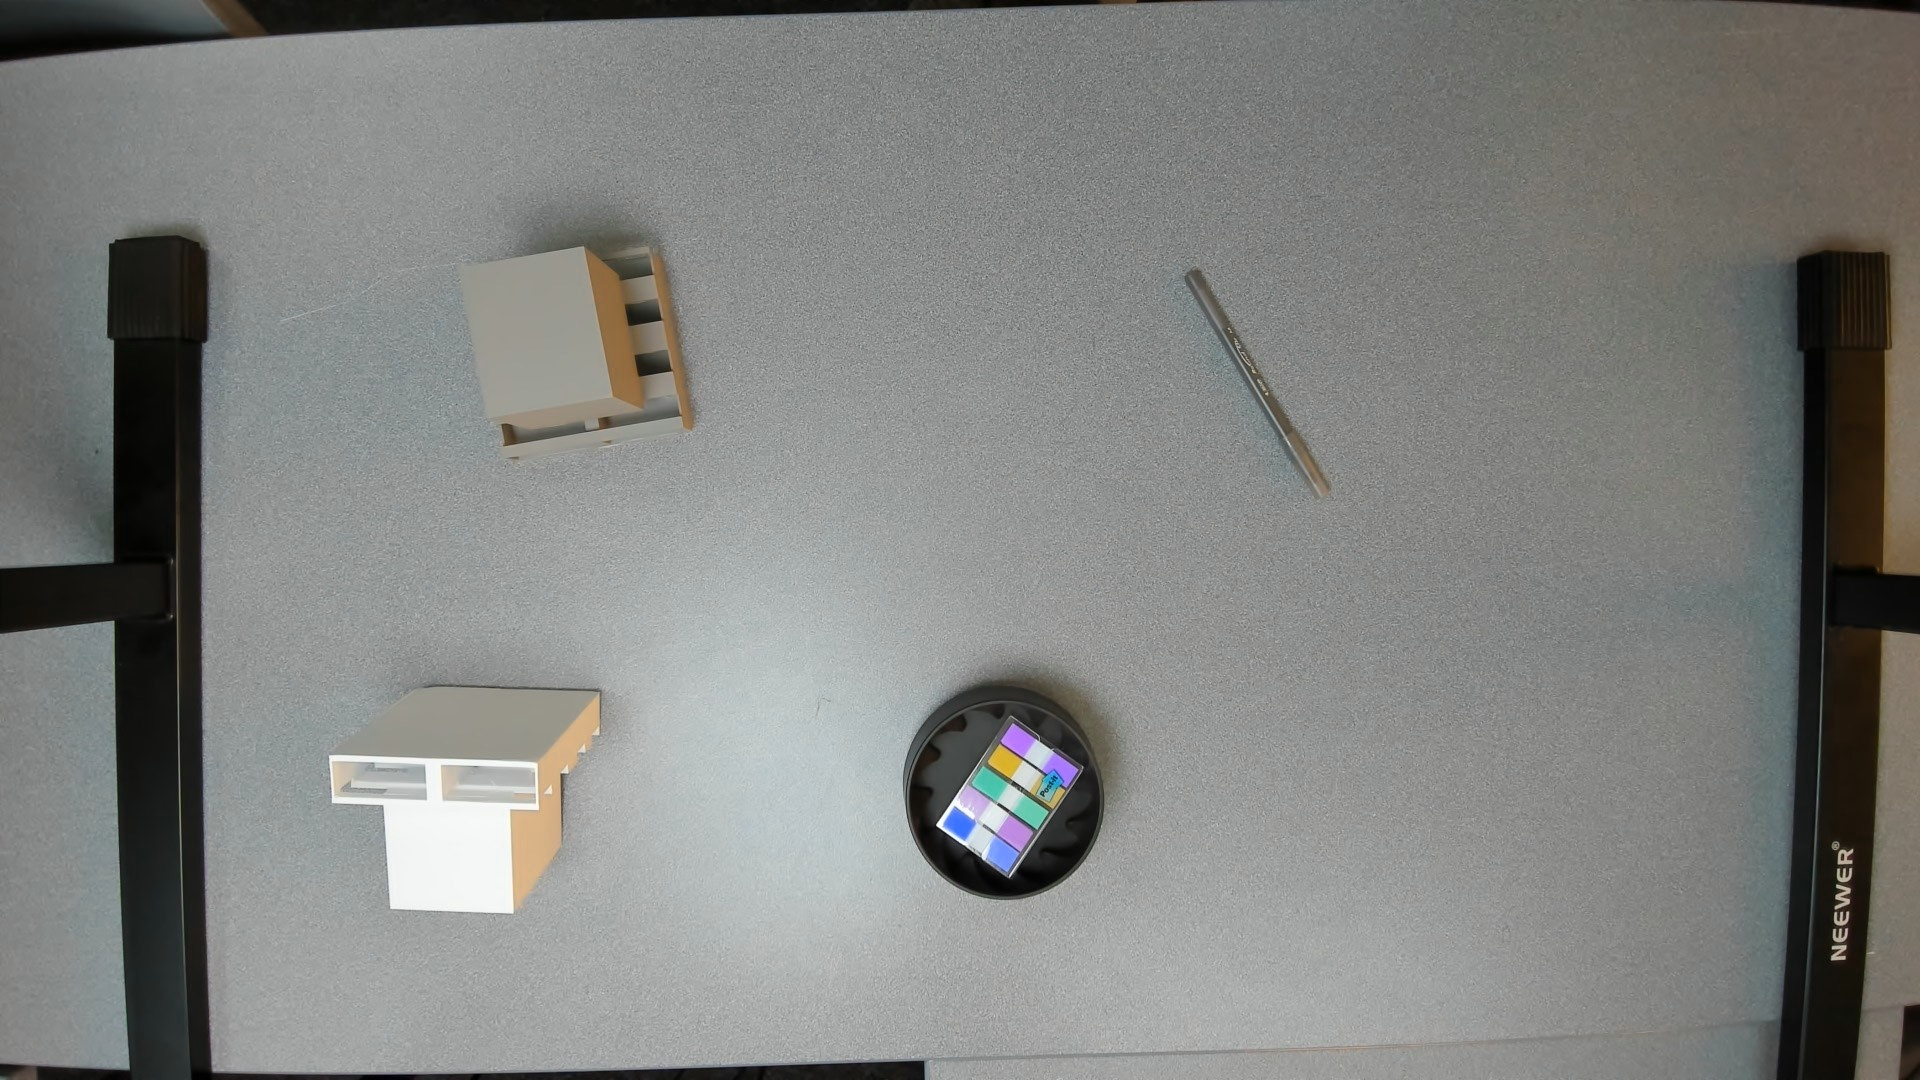grey pallet: (446, 222, 713, 464)
white pallet: (324, 669, 618, 934)
